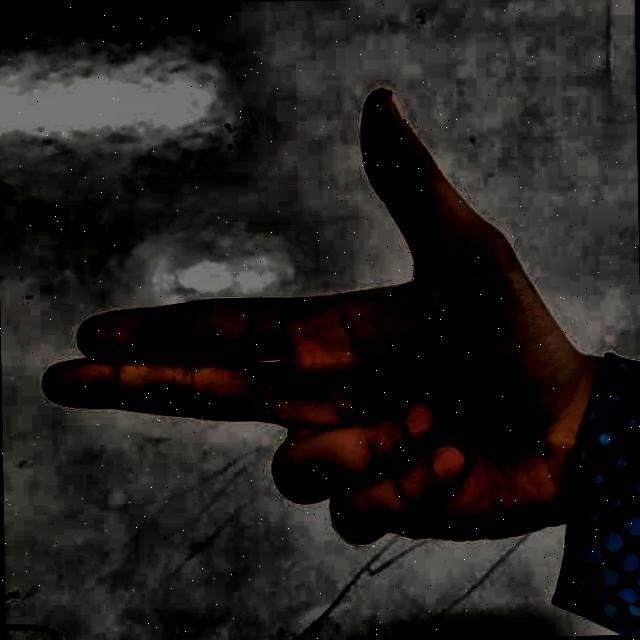Jha: (26, 47, 598, 634)
